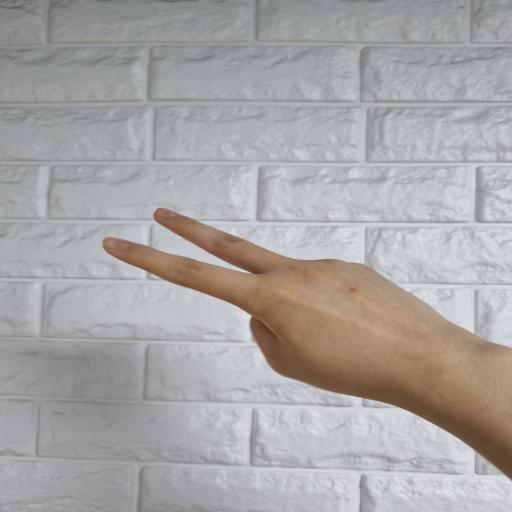Scissors: (102, 208, 512, 480)
